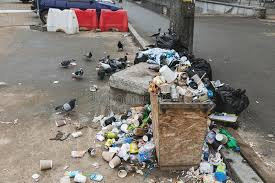garbage: (107, 114, 154, 167), (158, 58, 212, 99), (213, 85, 248, 126), (207, 138, 224, 183)
